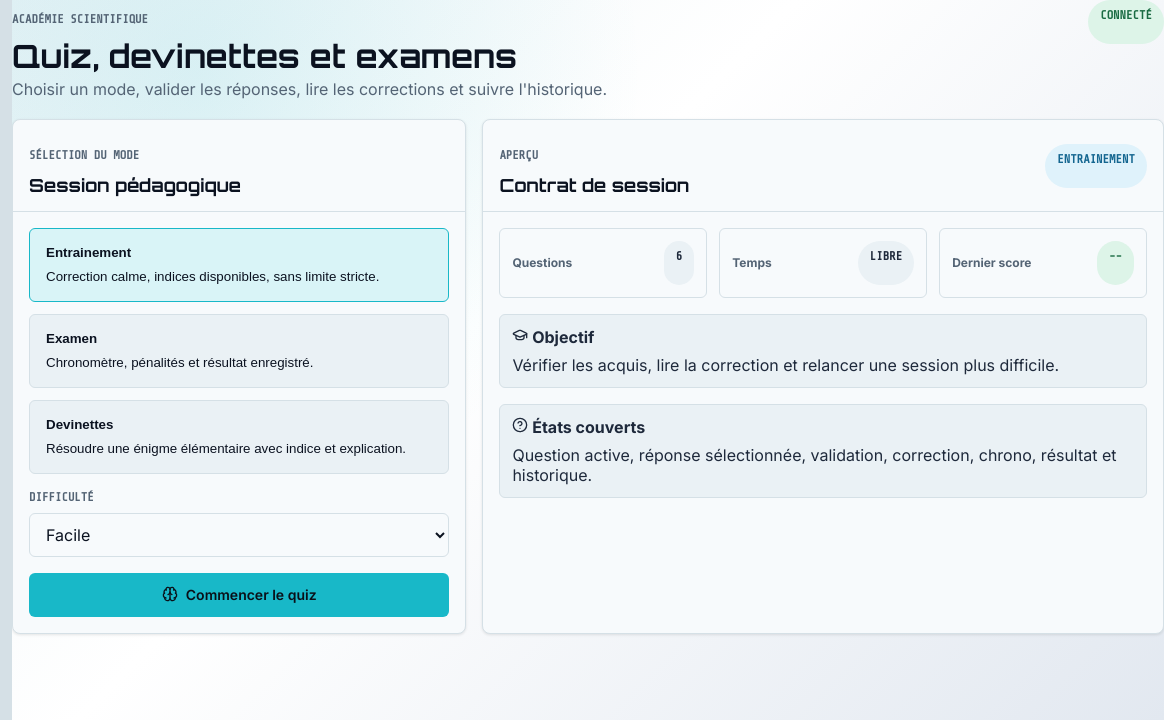
it: QuizMode › opens the riddle mode from the mode selection screen
Click the button "Devinettes": (80, 425) [29,400,449,474]
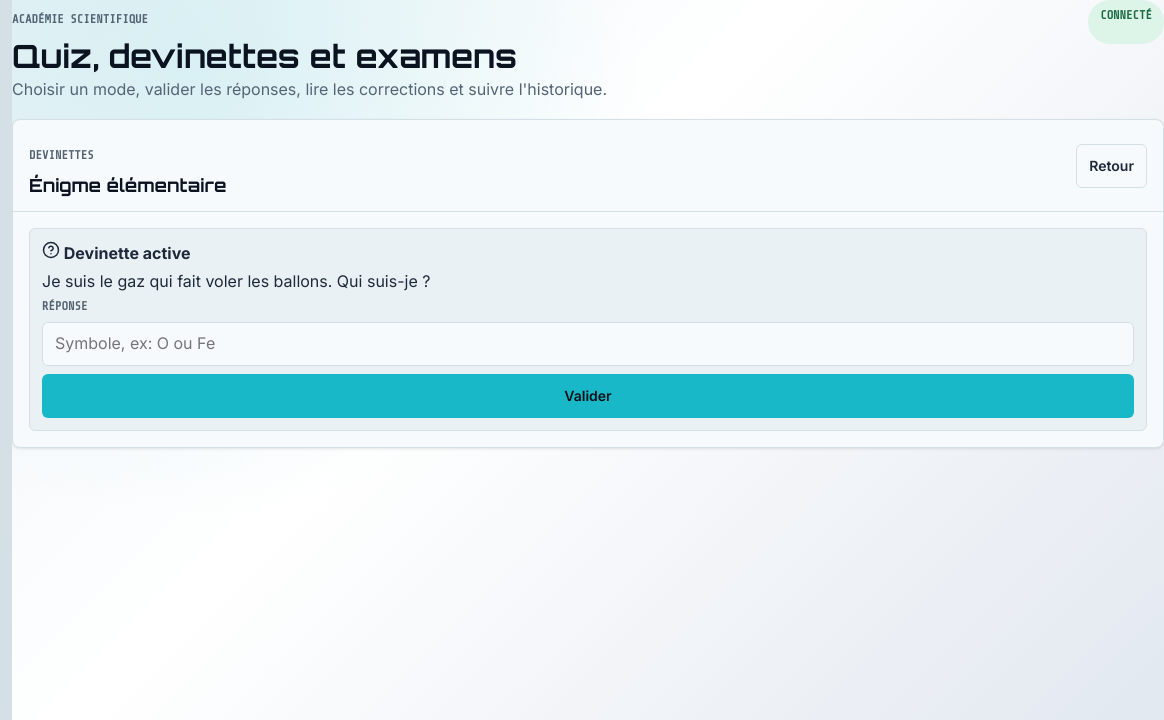
Expected: the text "Devinette active" is shown, [42,241,190,263]
Expected: the button "Retour" is shown, [1076,144,1147,188]
